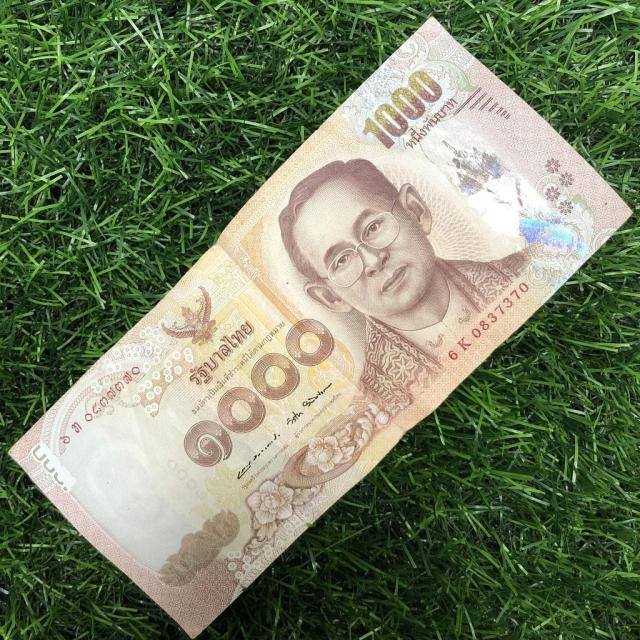THAI1000: (8, 18, 631, 639)
